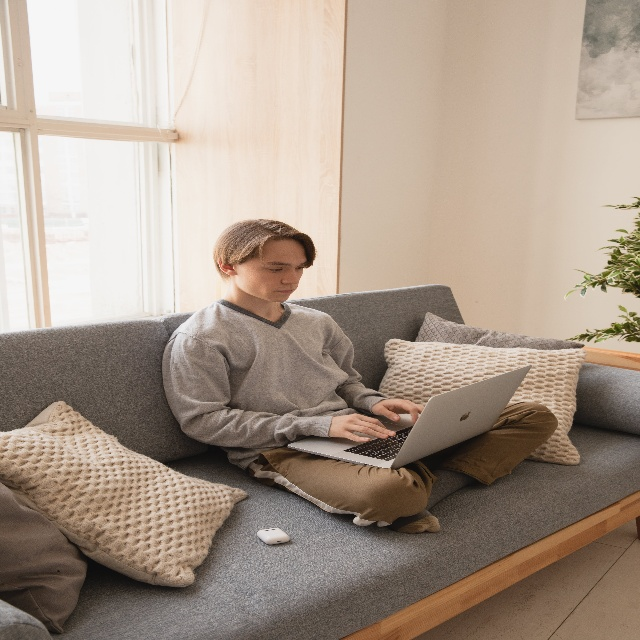Sin_guantes: (329, 414, 397, 444), (371, 397, 426, 426)
